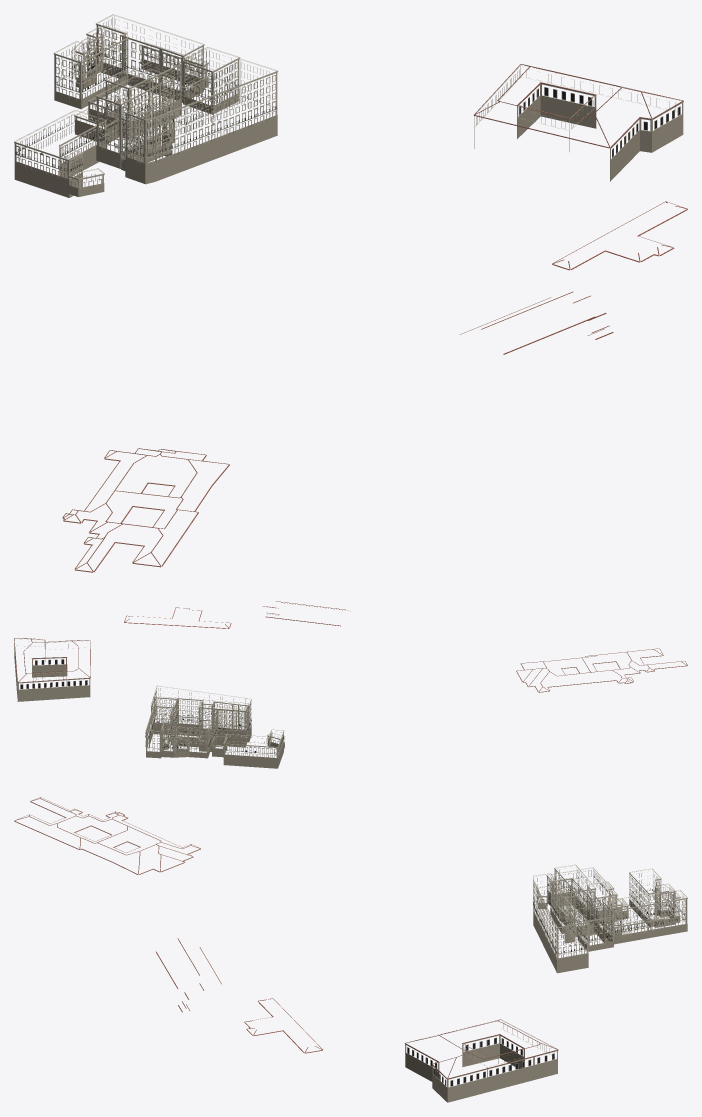
3 renders of one model, top to bottom at view 1: azimuth 30°, elevation 25°; view 2: azimuth 150°, elevation 25°; view 3: azimuth 270°, elevation 25°, orthographic. The views are drawn at different scales.
Visible parts, largest first — view 1: detail; view 2: detail; view 3: detail.
Part boxes in pixels (x1,y1,x2,y2): detail: (14,14,687,572); detail: (14,601,687,768); detail: (14,797,687,1102).
Size of the model in its own units: 349 by 37.51 by 321.
